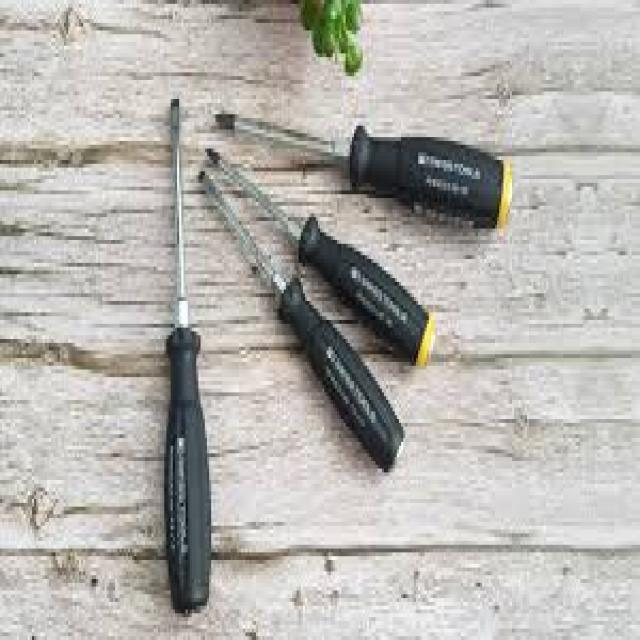screwdriver: (196, 163, 410, 488), (200, 142, 442, 376), (212, 111, 515, 236), (158, 95, 212, 617)
